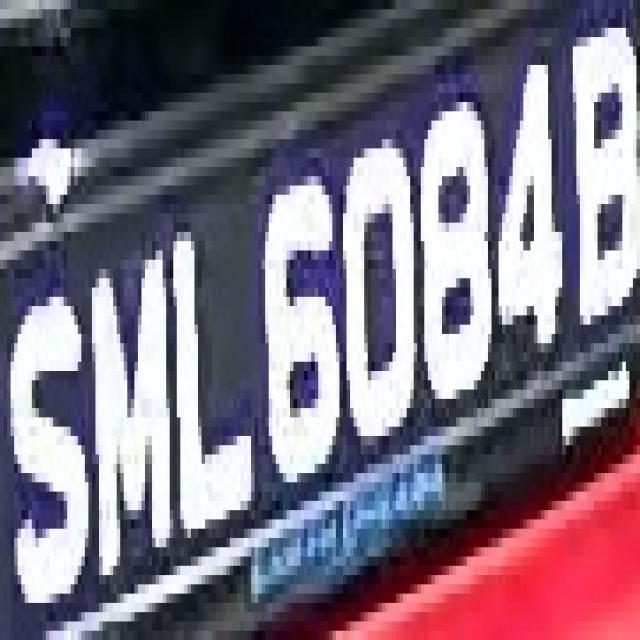0: (329, 130, 428, 445)
4: (492, 28, 576, 417)
6: (251, 148, 343, 473)
8: (414, 74, 495, 427)
B: (565, 18, 640, 361)
L: (170, 204, 265, 529)
M: (78, 242, 180, 584)
S: (10, 260, 96, 612)
